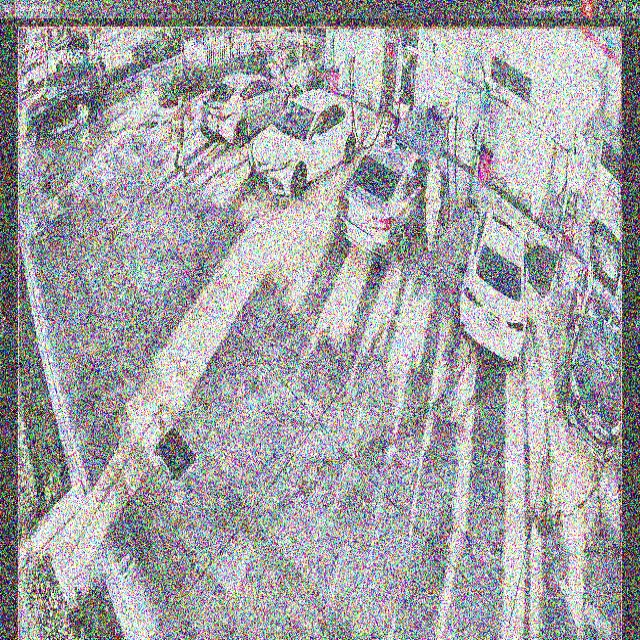Car: (337, 114, 448, 259), (249, 92, 363, 188), (461, 209, 530, 360), (201, 70, 297, 144)
